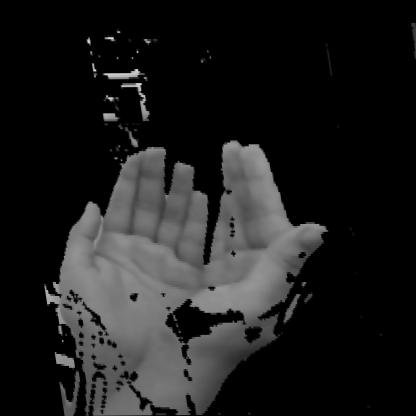dua: (17, 134, 347, 402)
